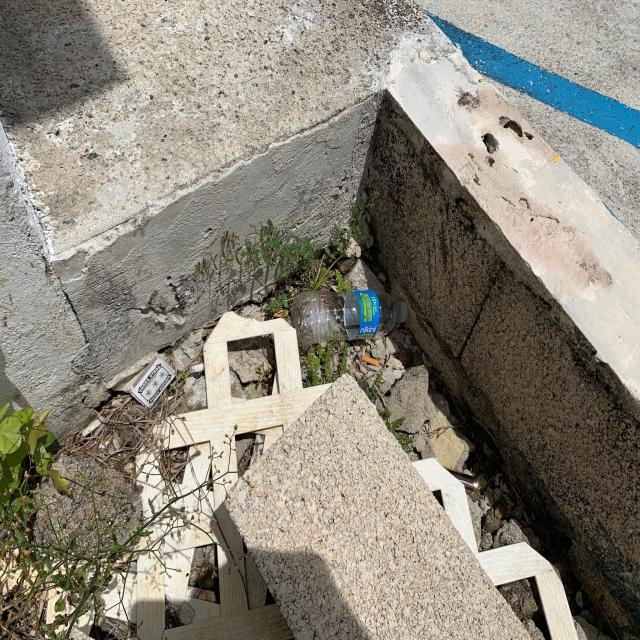litter: (280, 281, 420, 360)
